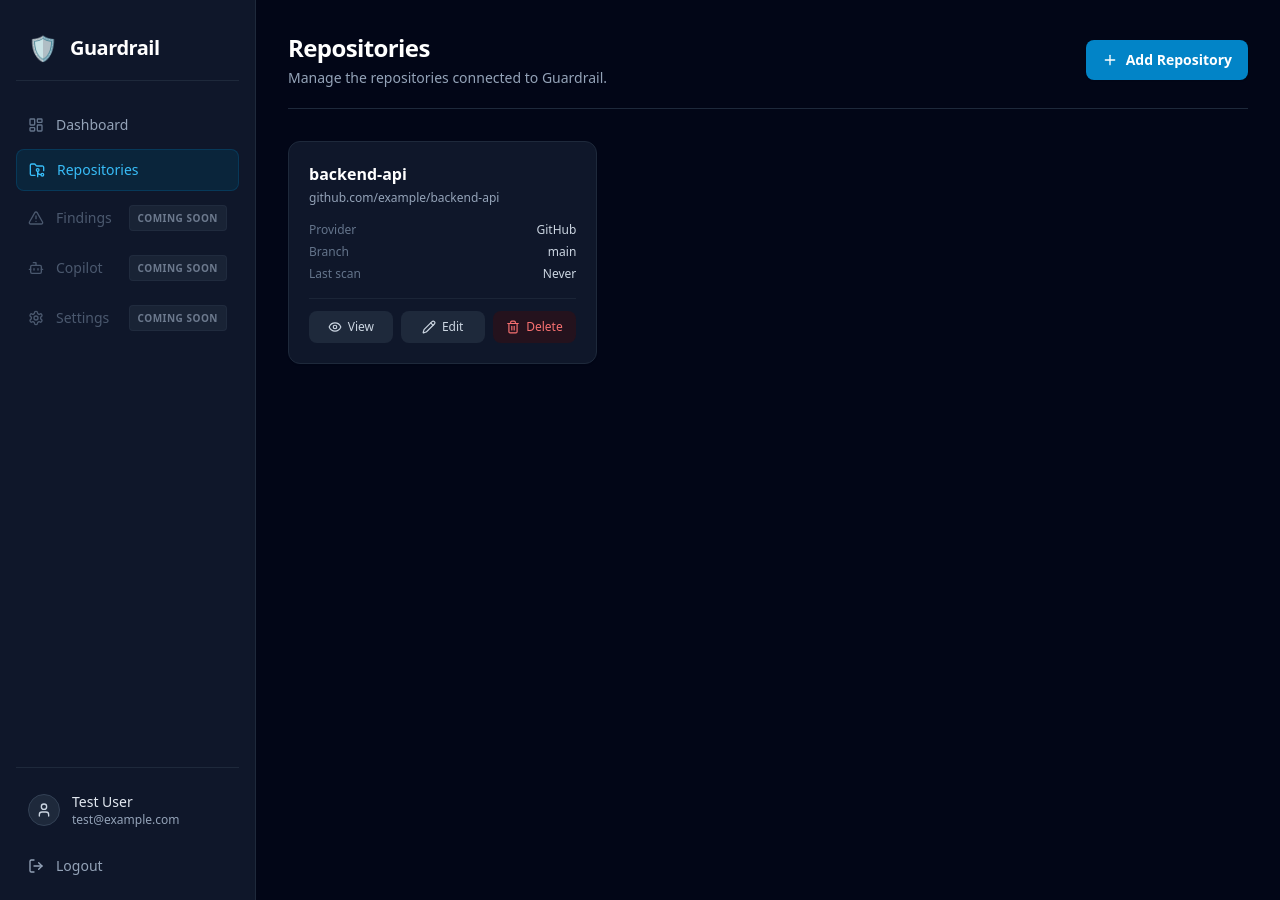
Test case: RepositoriesPage › edits a repository
Click the button "Edit".
click(443, 327)  # box [401, 311, 485, 343]
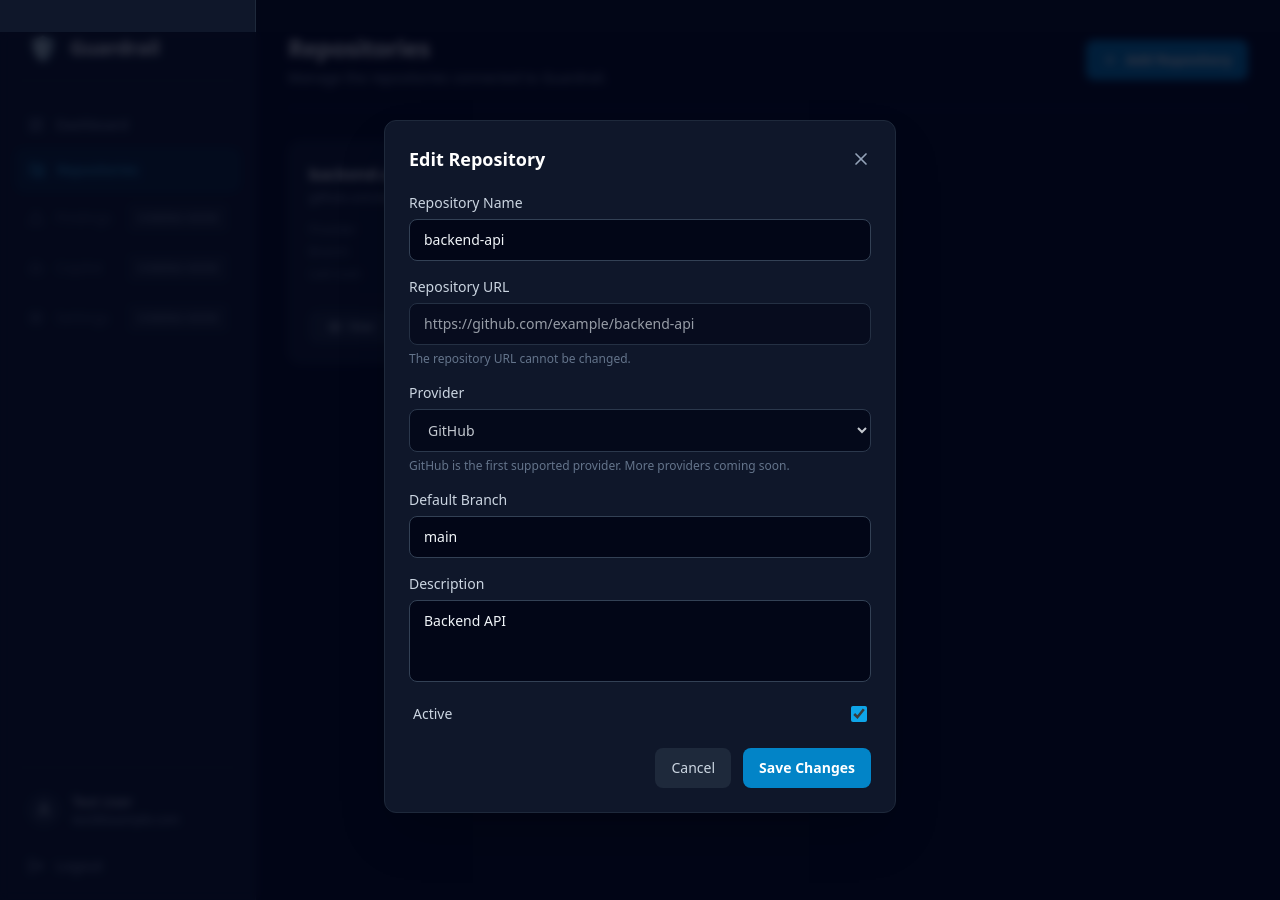
Expected: the dialog "Edit Repository" is shown
Type "renamed-repo" into the field labelled "Repository Name".
click(640, 240); type("renamed-repo")  # box [409, 218, 871, 260]
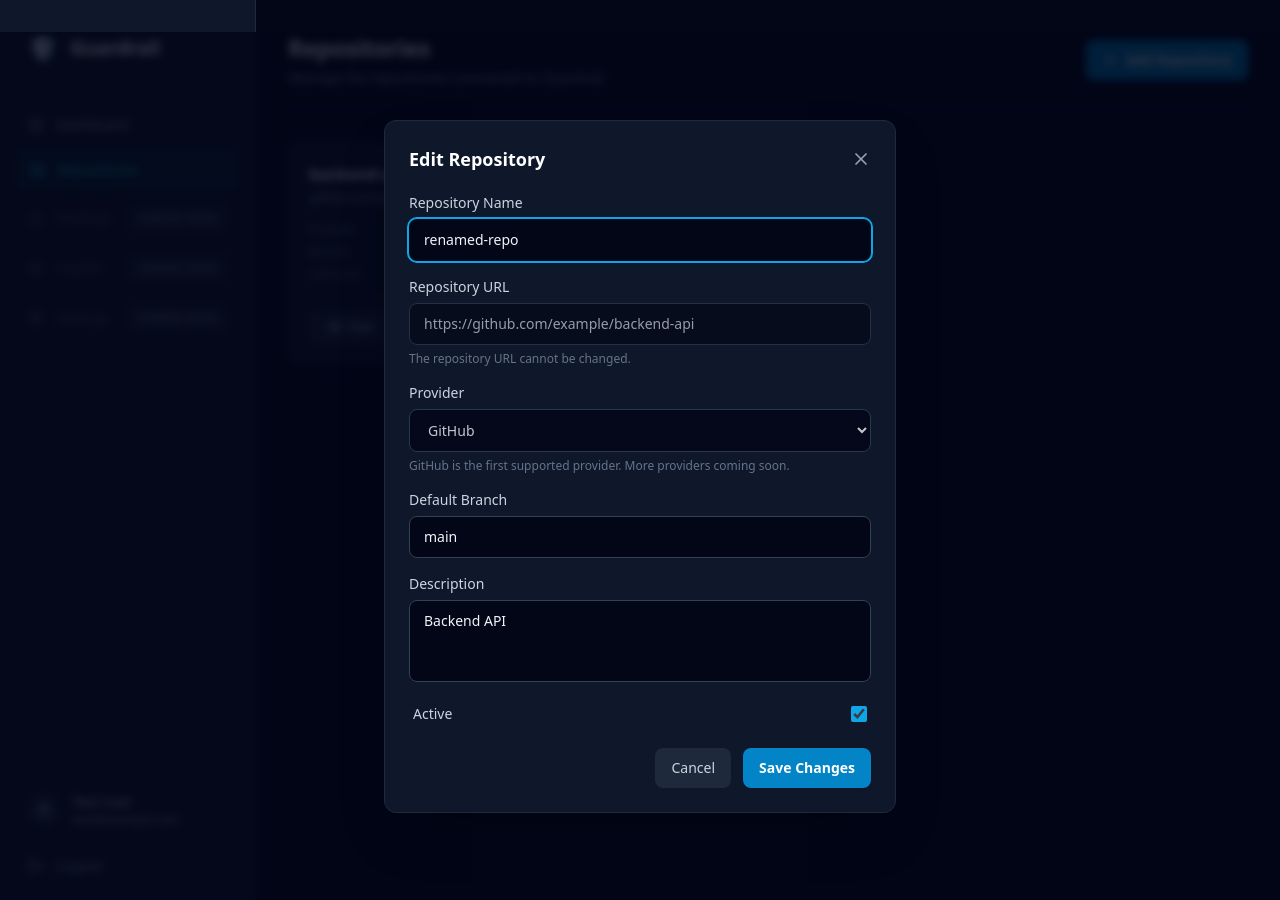
Click the button "Save Changes".
click(807, 768)  # box [743, 748, 871, 788]
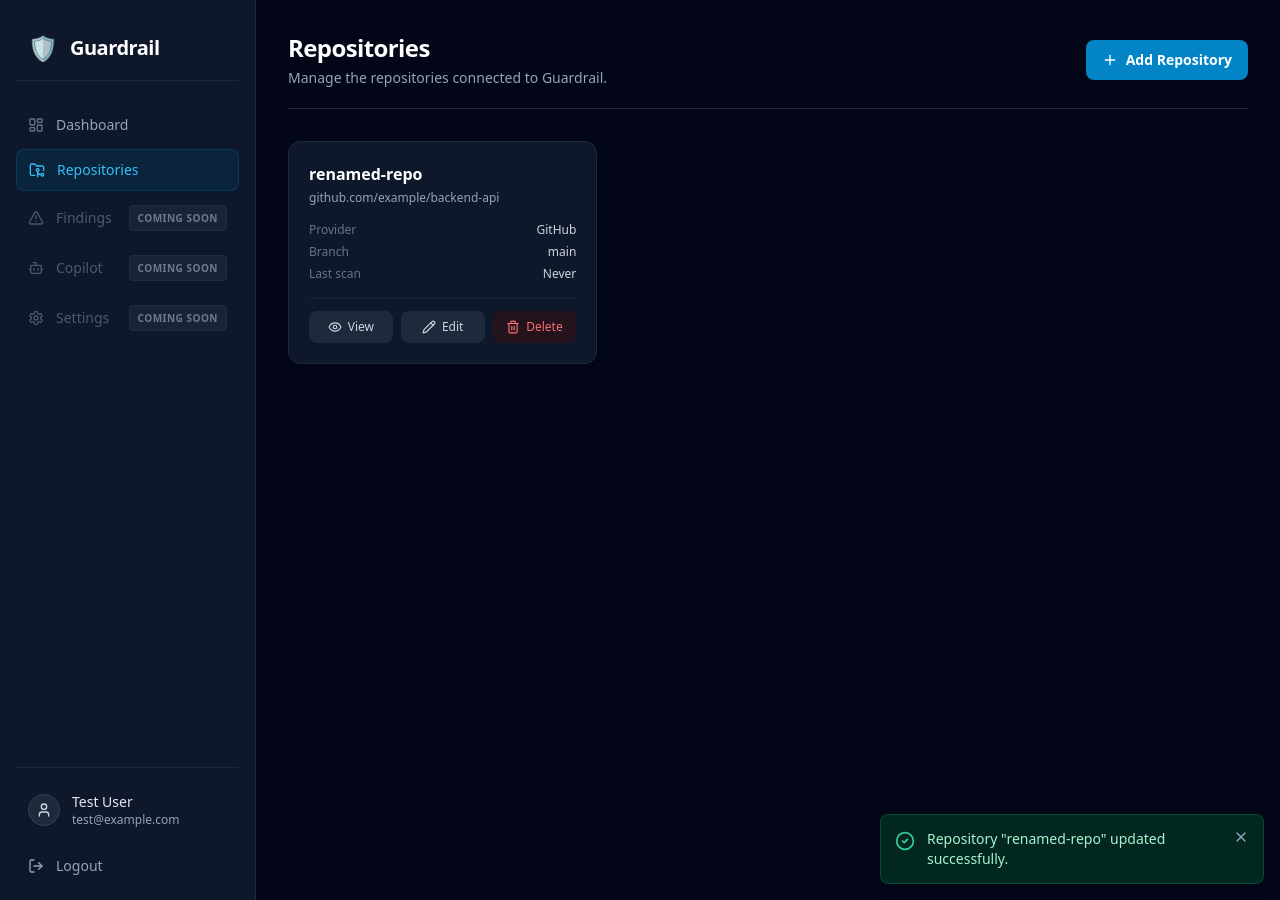
Expected: the heading "renamed-repo" is shown, [309, 162, 422, 186]
